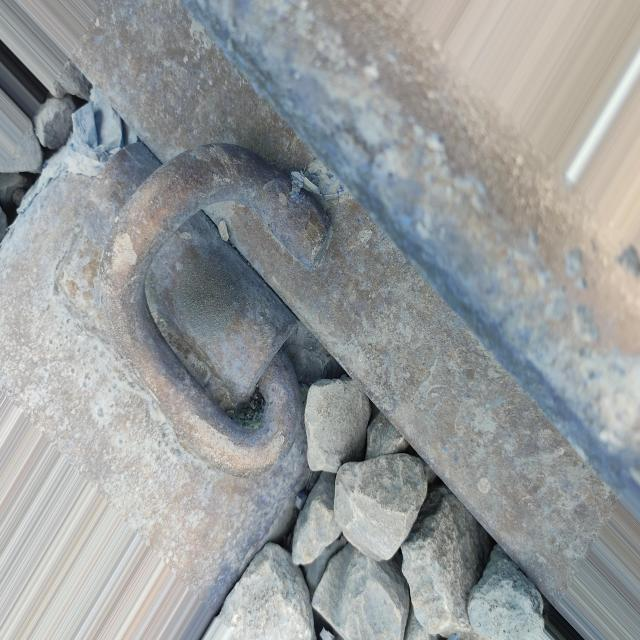Good Fasteners: (31, 139, 338, 493)
